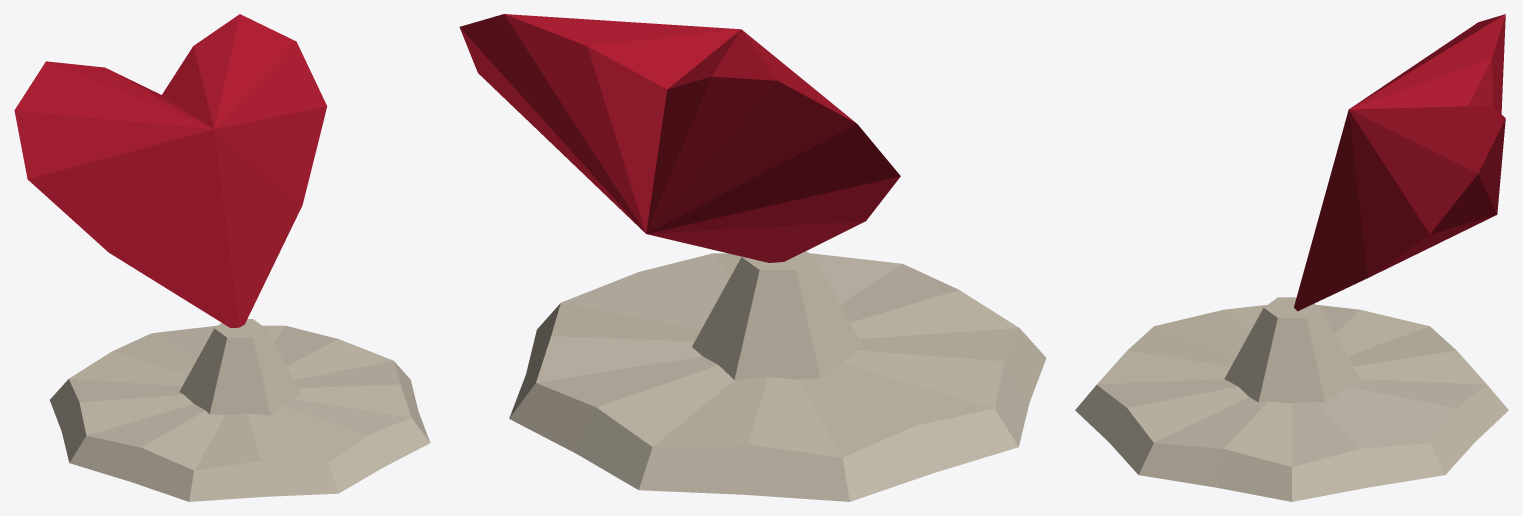
The model's file is heartstone.glb.
The picture shows the model from 3 angles, left to right: view 1: azimuth 30°, elevation 25°; view 2: azimuth 150°, elevation 25°; view 3: azimuth 270°, elevation 25°; orthographic projection. The views are drawn at different scales.
Visible parts, largest first — view 1: heartstone; view 2: heartstone; view 3: heartstone.
Part boxes in pixels (x1,y1,x2,y2): heartstone: (14,14,430,501); heartstone: (459,14,1046,501); heartstone: (1075,14,1508,501).
Bounding box in the file's own units: 1.84 × 1.61 × 1.84.
